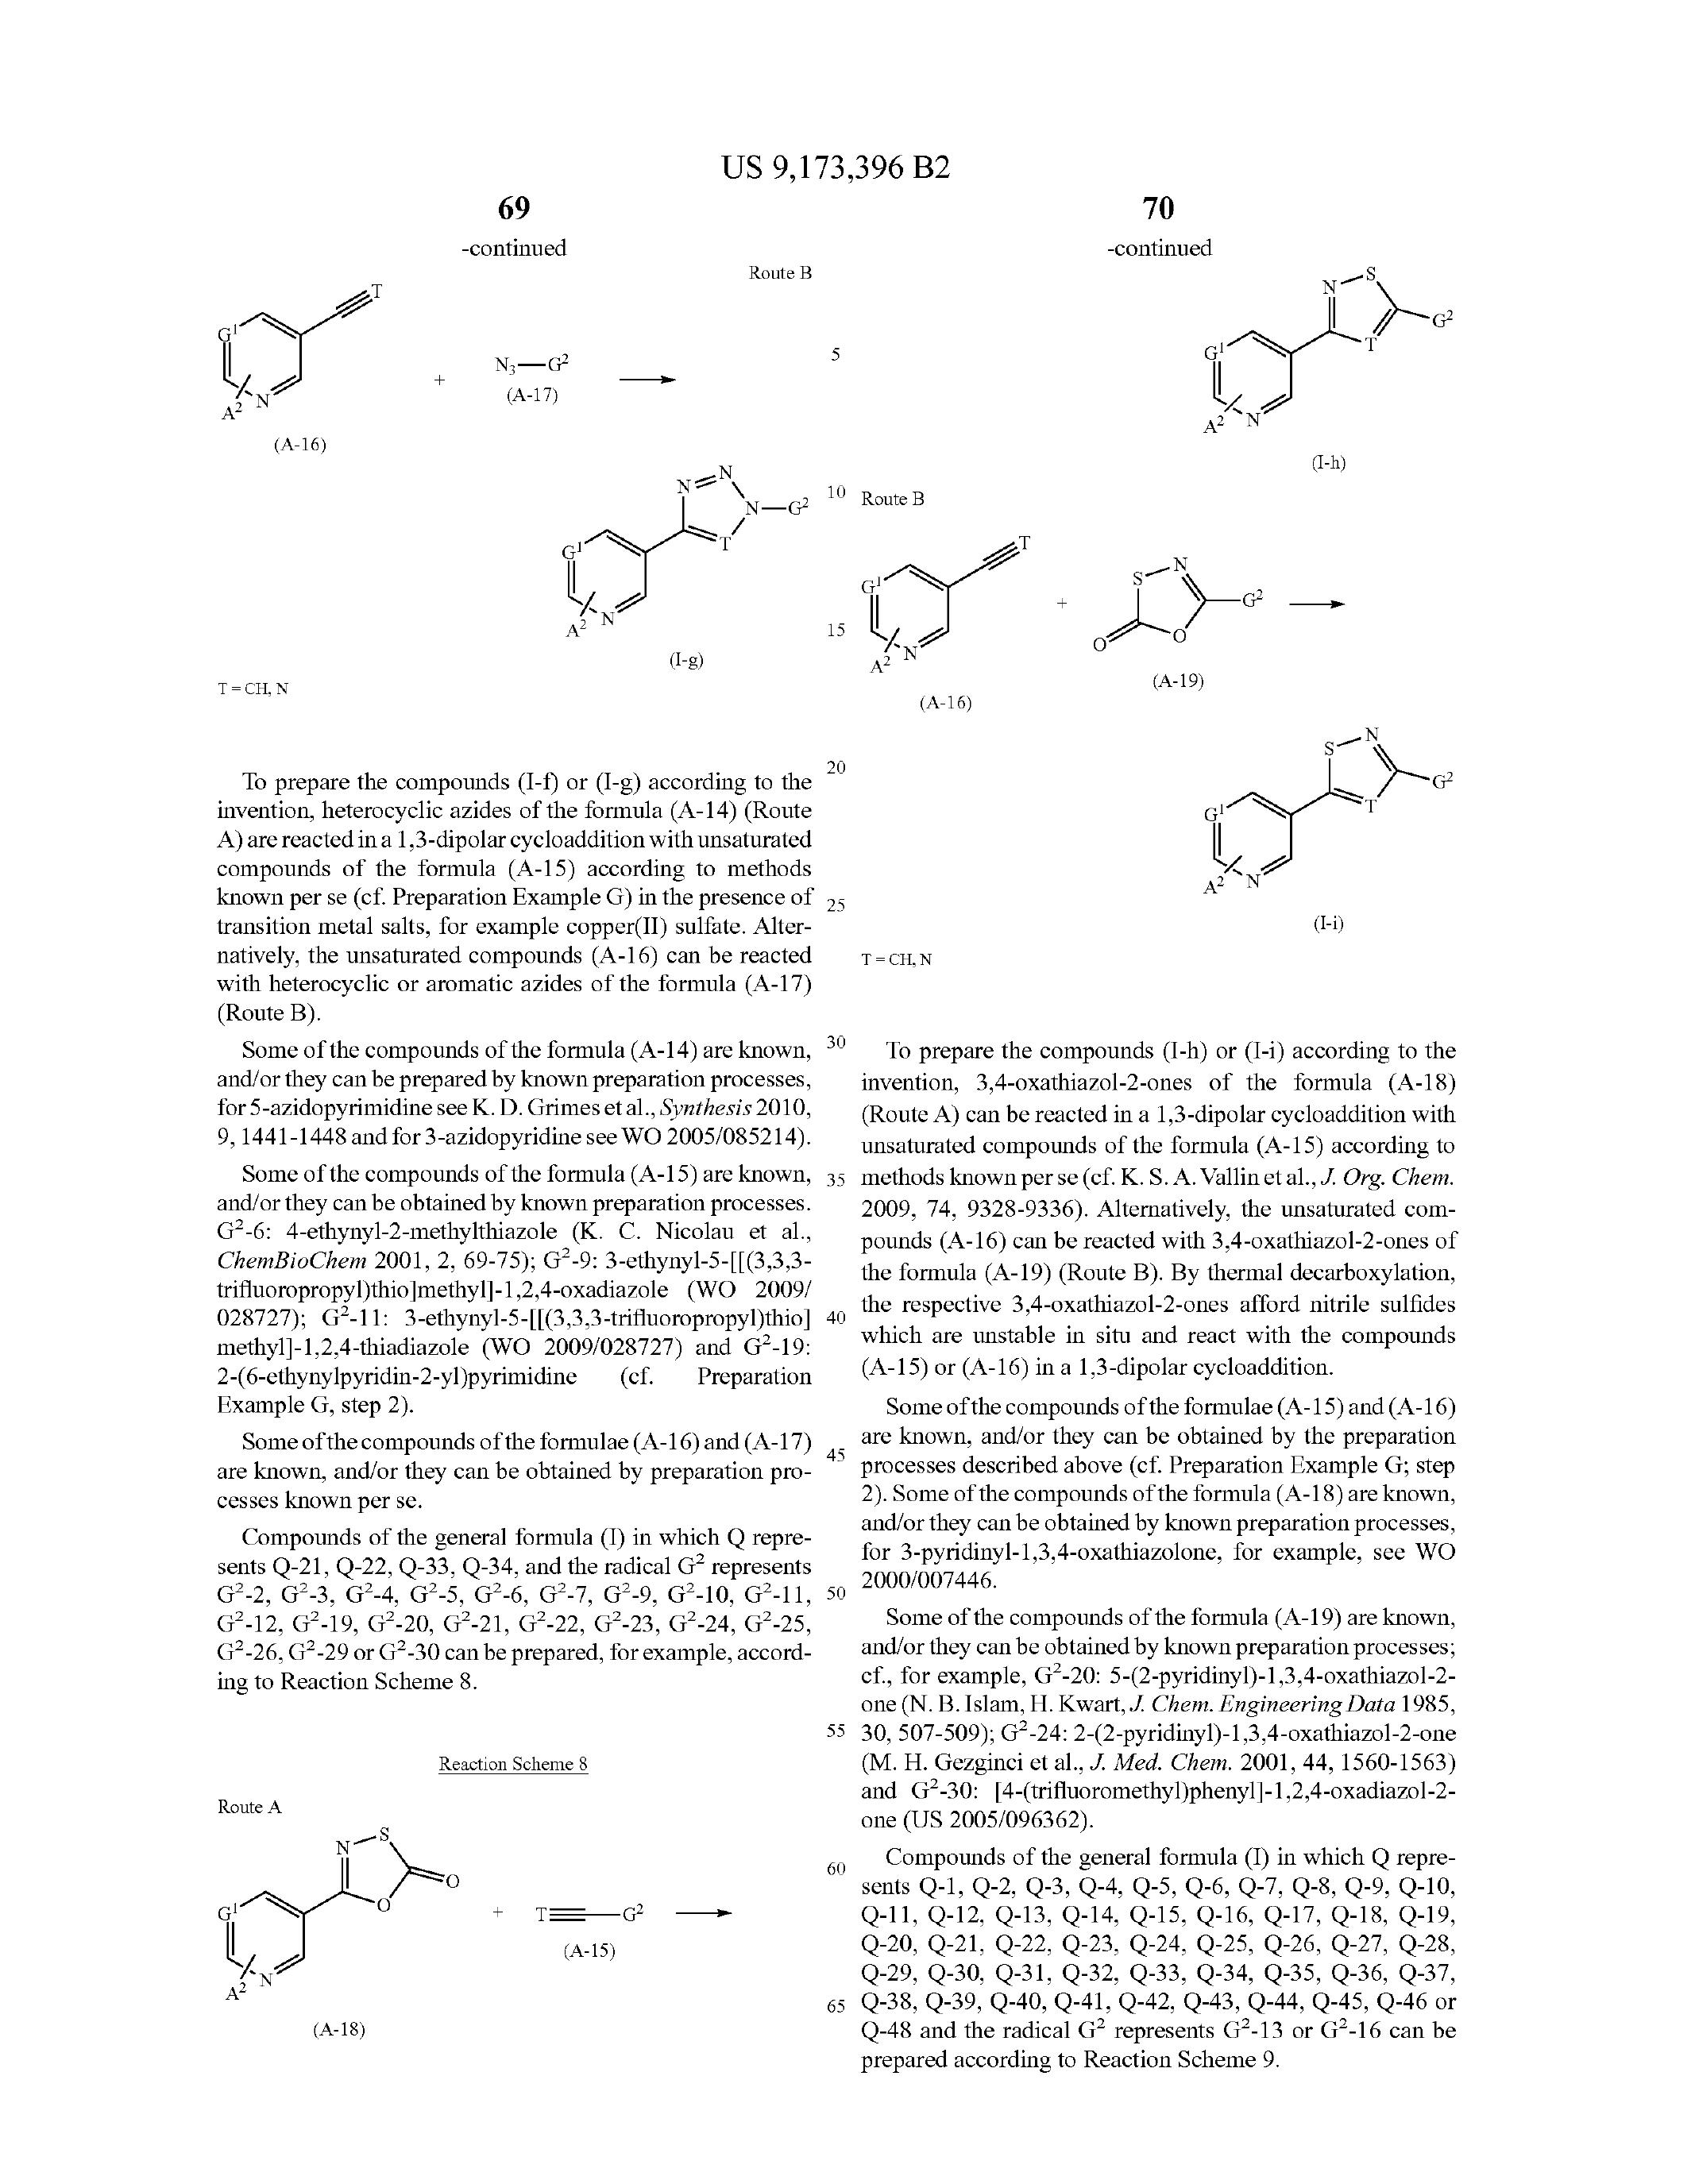reactions: (90, 105, 1523, 700), (1096, 755, 1539, 940)
